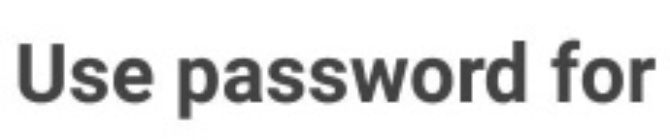TextView: (1, 1, 669, 139)
